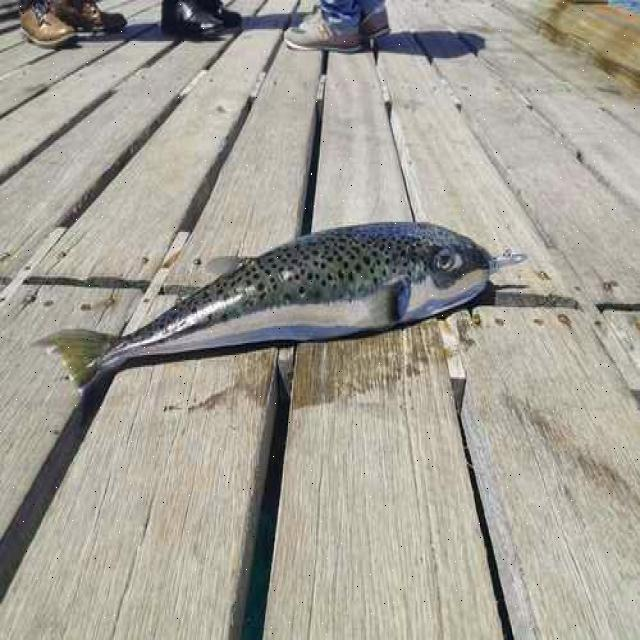Balik: (43, 222, 524, 387)
